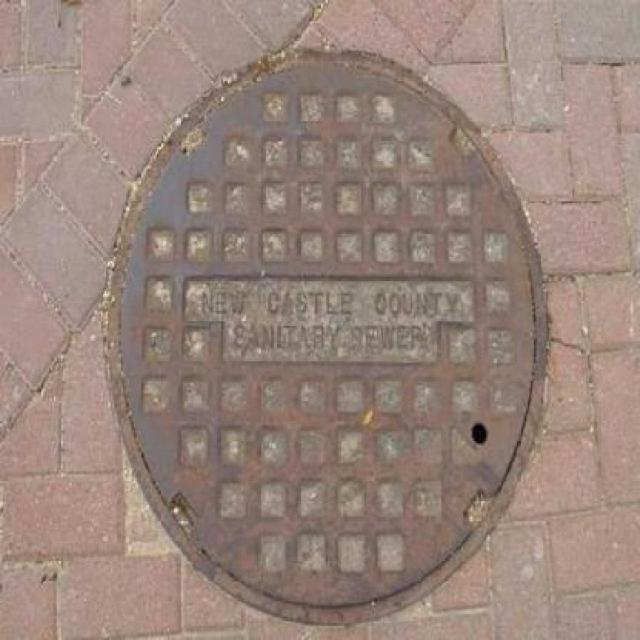Manhole: (105, 46, 558, 626)
